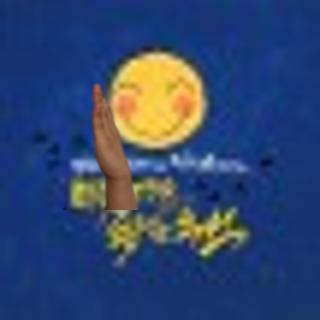RIGHT: (86, 81, 133, 180)
